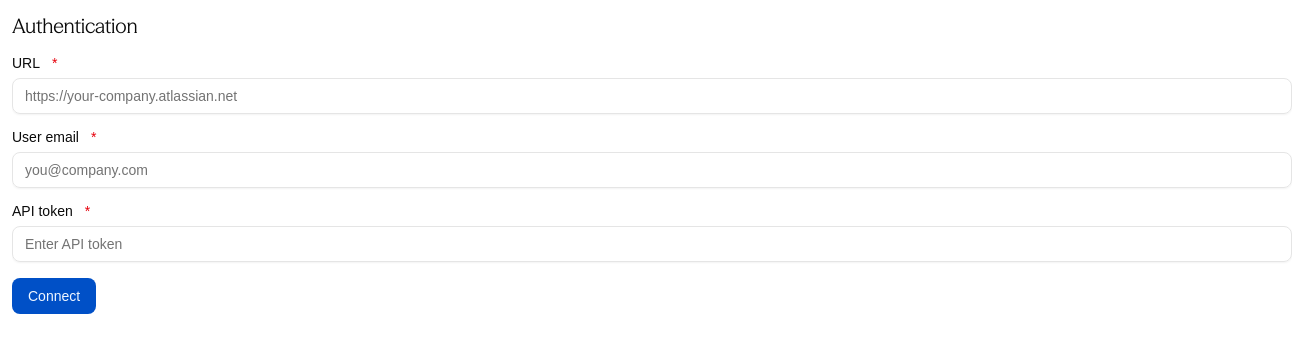
it: ConfluenceForm › Form Validation › should show validation error for invalid email format after clicking Connect
Step 1. Type "https://company.atlassian.net" into the field labelled "URL *" → (652, 96), box [12, 78, 1292, 114]
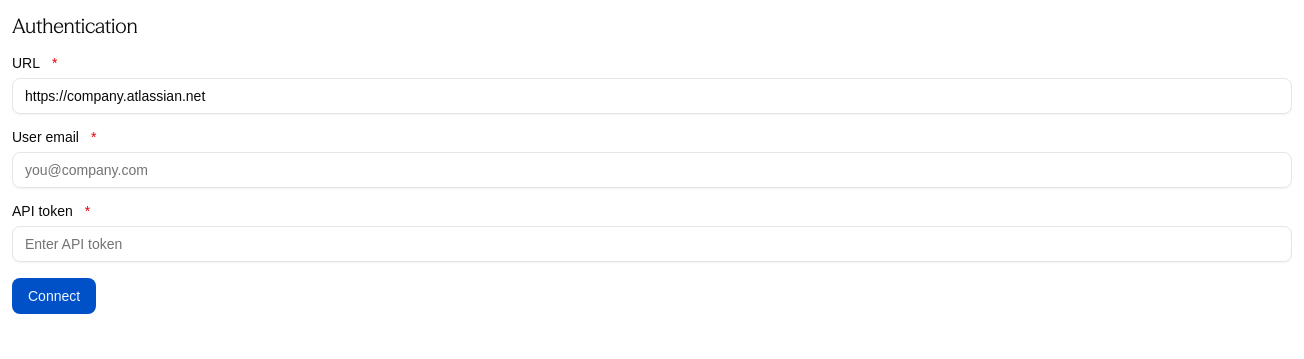
Step 2. Type "invalid-email" into the field labelled "User email *" → (652, 170), box [12, 152, 1292, 188]
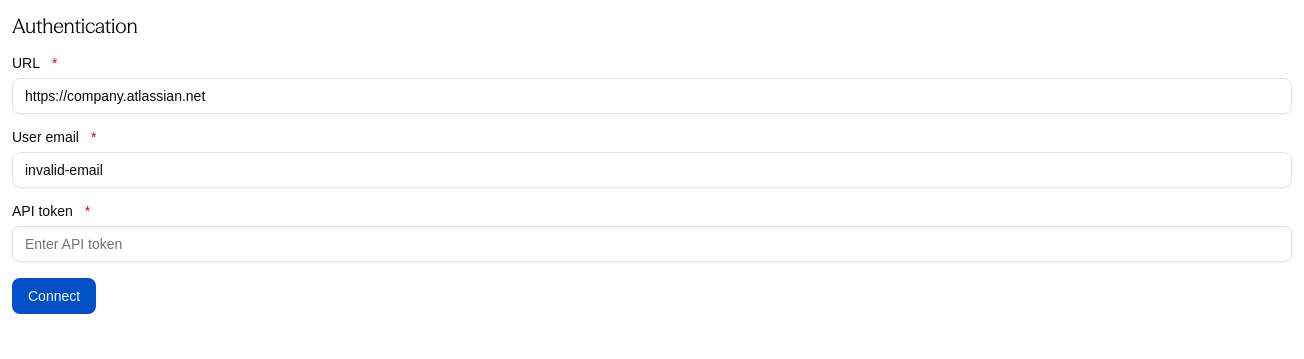
Step 3. Type "secret-token" into the password field labelled "API token *" → (652, 244), box [12, 226, 1292, 262]
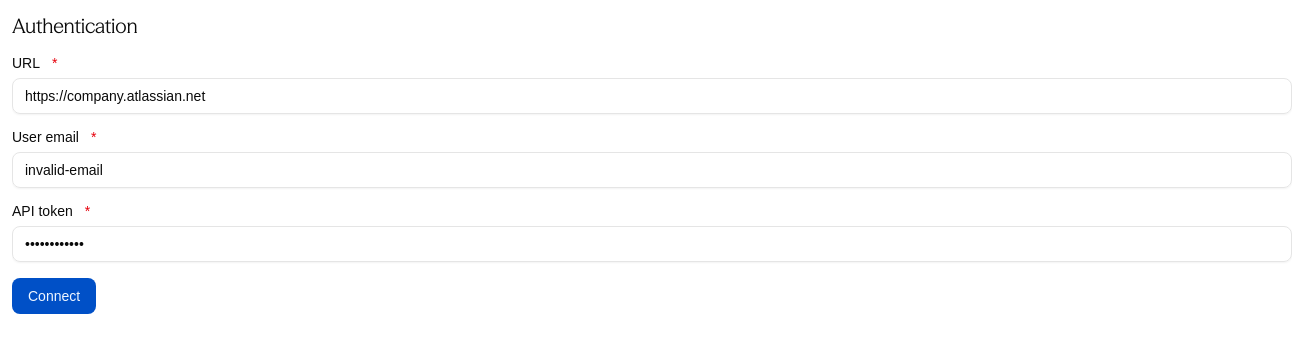
Step 4. Click the button "Connect" → click(54, 296), box [12, 278, 96, 314]
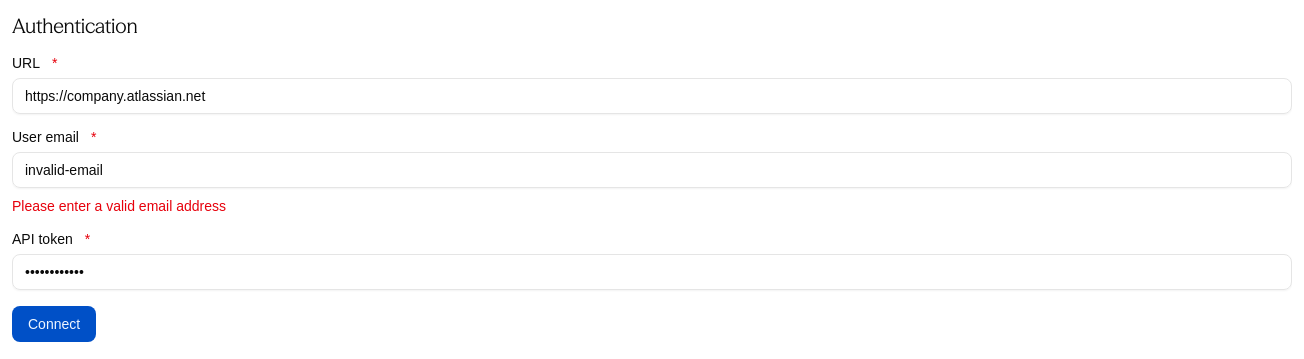
Now the text "Please enter a valid email address" is shown, box [12, 196, 226, 216]
